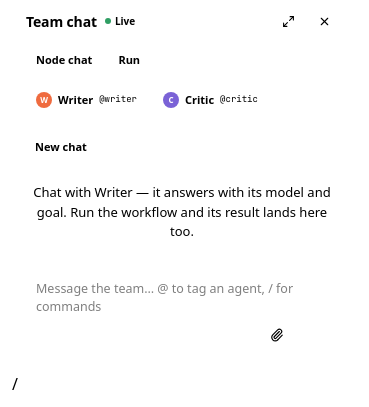
Test: D302 @handle brings another node into the conversation › typing @cr opens a picker; Enter completes @critic and the chat stays where it was
This screenshot has width=369, height=407.
Check: the element with test id "chat-conversation" is shown, box [12,167,352,258]
In the text box with test id "chat-input": [182, 298] box [36,280,328,316], type "ask @cr"
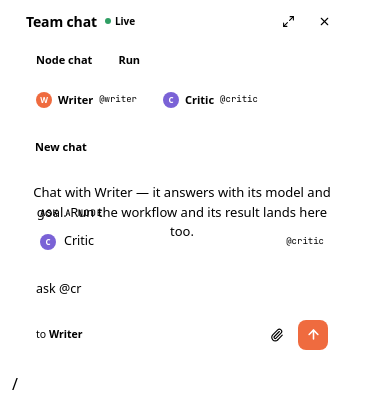
Check: the list with test id "chat-mention-picker" shows "Critic", box [30,226,334,258]
Check: the list with test id "chat-mention-picker" shows "@critic", box [26,195,338,262]
Press Enter
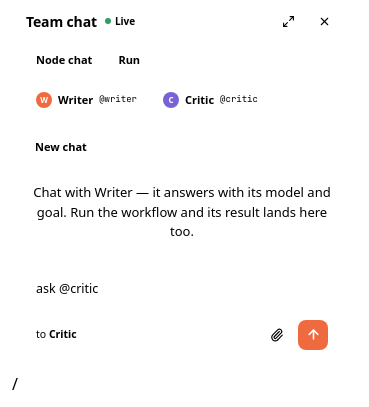
Check: the text box with test id "chat-input" holds "ask @critic ", box [36,280,328,316]
Check: the list with test id "chat-mention-picker" is gone
